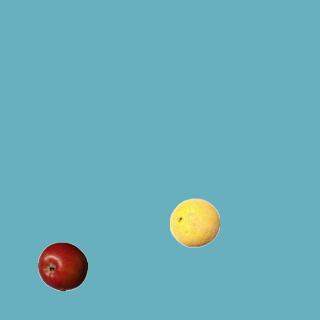Apple Braeburn: (37, 241, 87, 291)
Cantaloupe 1: (169, 197, 219, 247)
